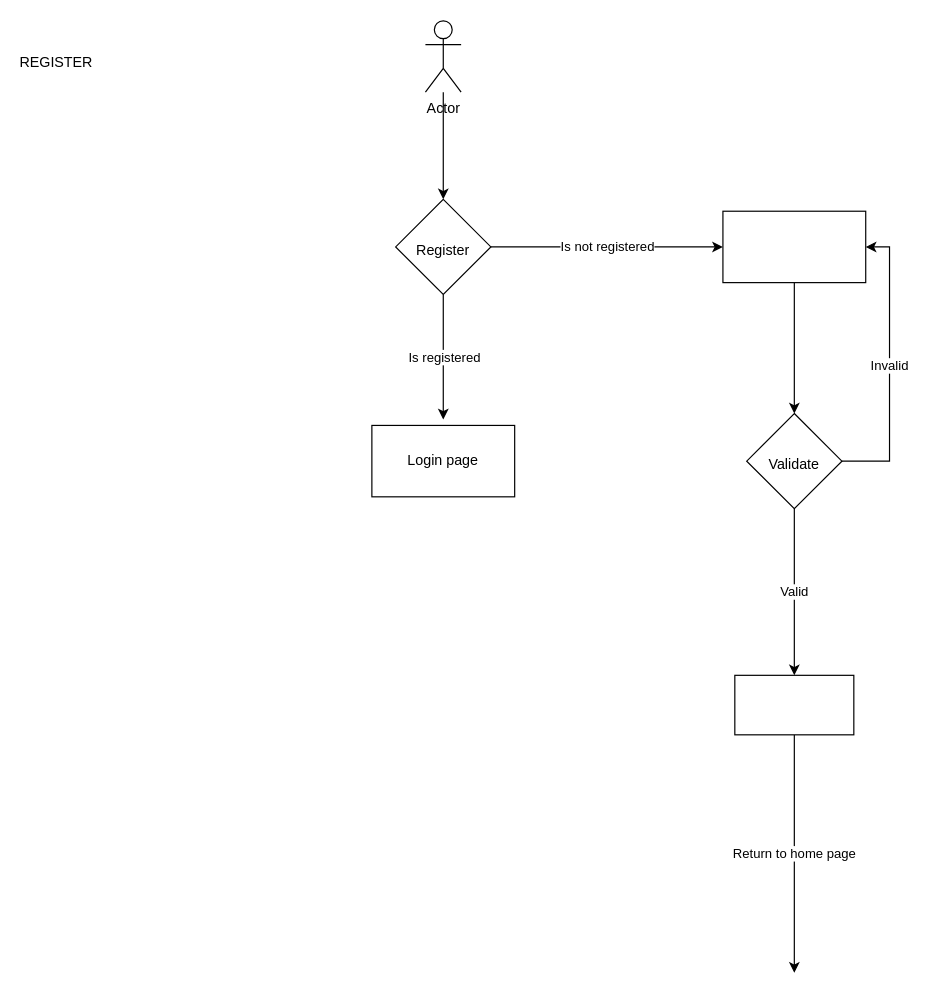
Image size: 929x1003. Some labels were removed from this diagram. Each missing label, with the box of its shape:
Add new user to DB: (734, 674, 854, 735)
Fill form: (722, 210, 866, 283)
